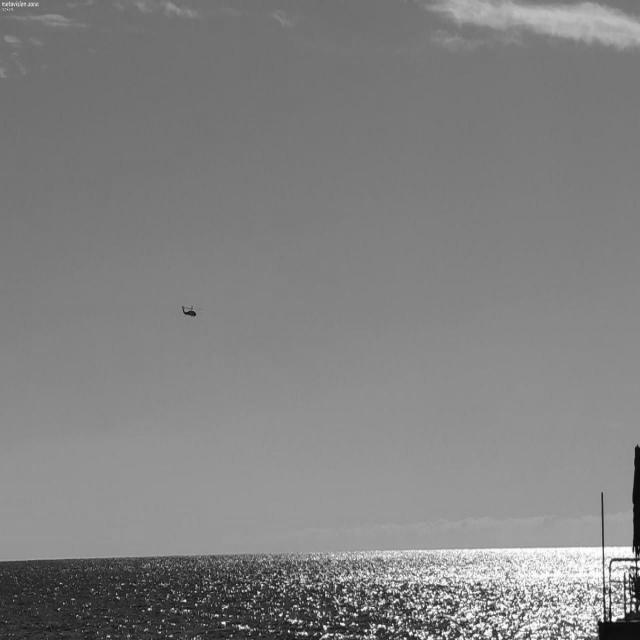helikopter: (161, 264, 227, 342)
